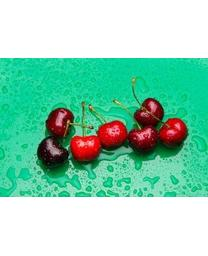cherry: (36, 136, 69, 169), (95, 120, 127, 150), (158, 117, 188, 149), (133, 97, 165, 127), (70, 134, 102, 163), (46, 108, 73, 139), (127, 127, 158, 154)
